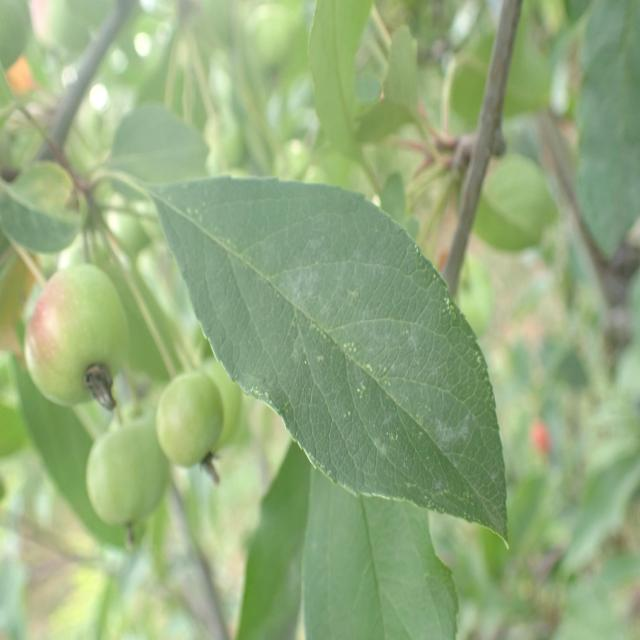Powdery_mildew: (150, 181, 504, 526)
